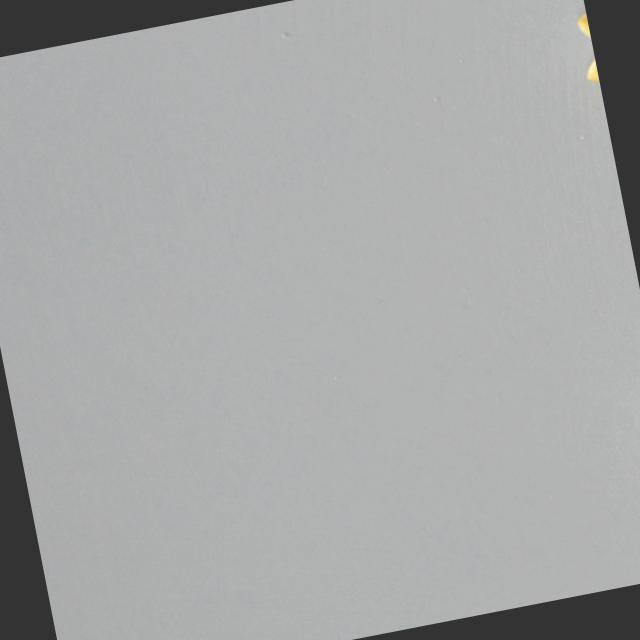no_canjicado: (570, 3, 604, 108)
